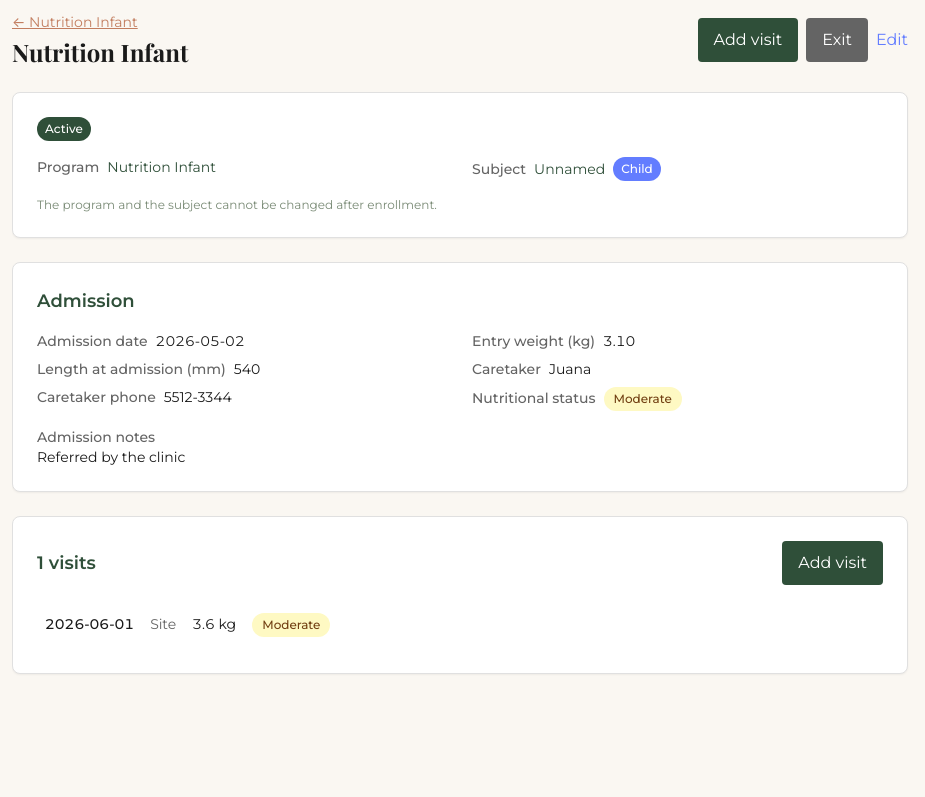
EnrollmentDetailPage › renders the program and subject read-only — there is no control to change them
Expected: the heading "Nutrition Infant" is shown, [12, 36, 188, 68]
Click the button "Edit": (892, 40) [876, 18, 908, 62]
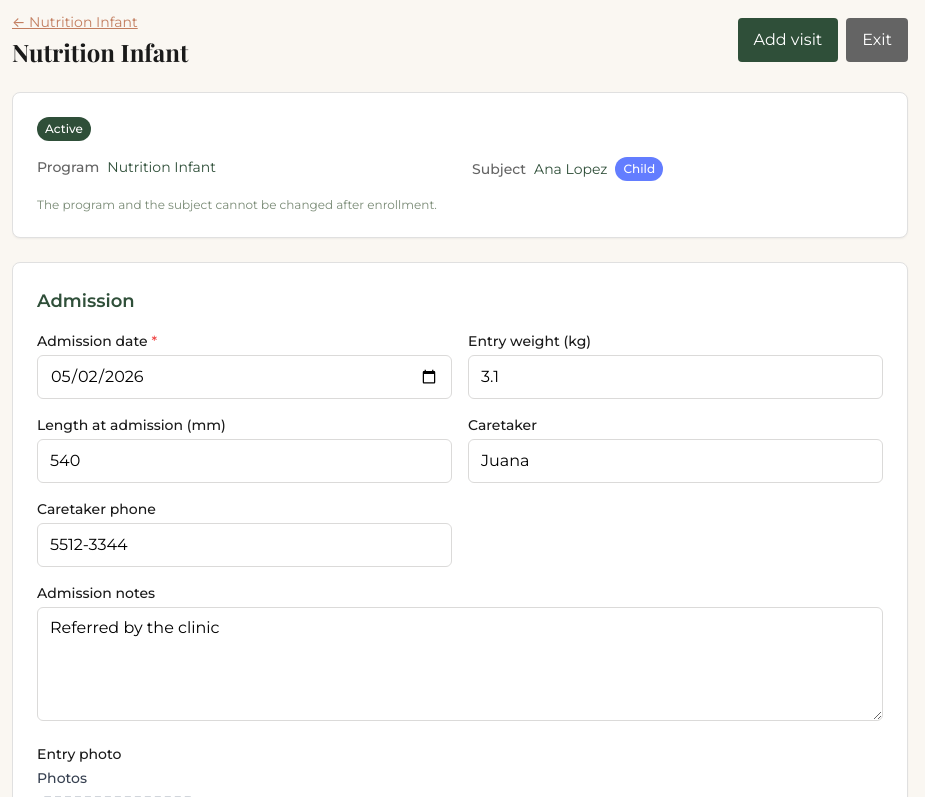
Expected: the date field labelled "Admission date*" is shown, [37, 355, 452, 399]
